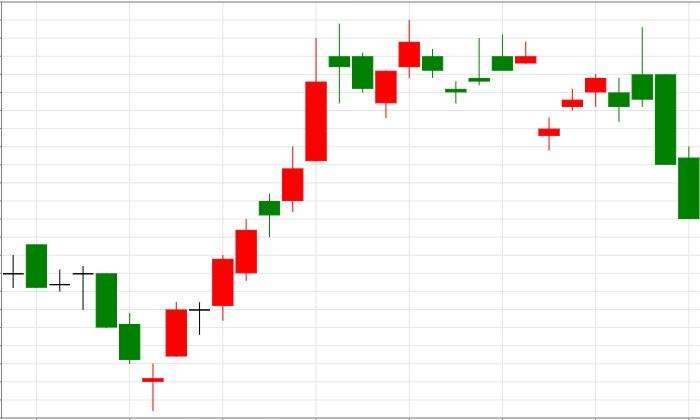evening_star_fall: (142, 24, 374, 411)
morning_star_rise: (4, 245, 186, 411)
